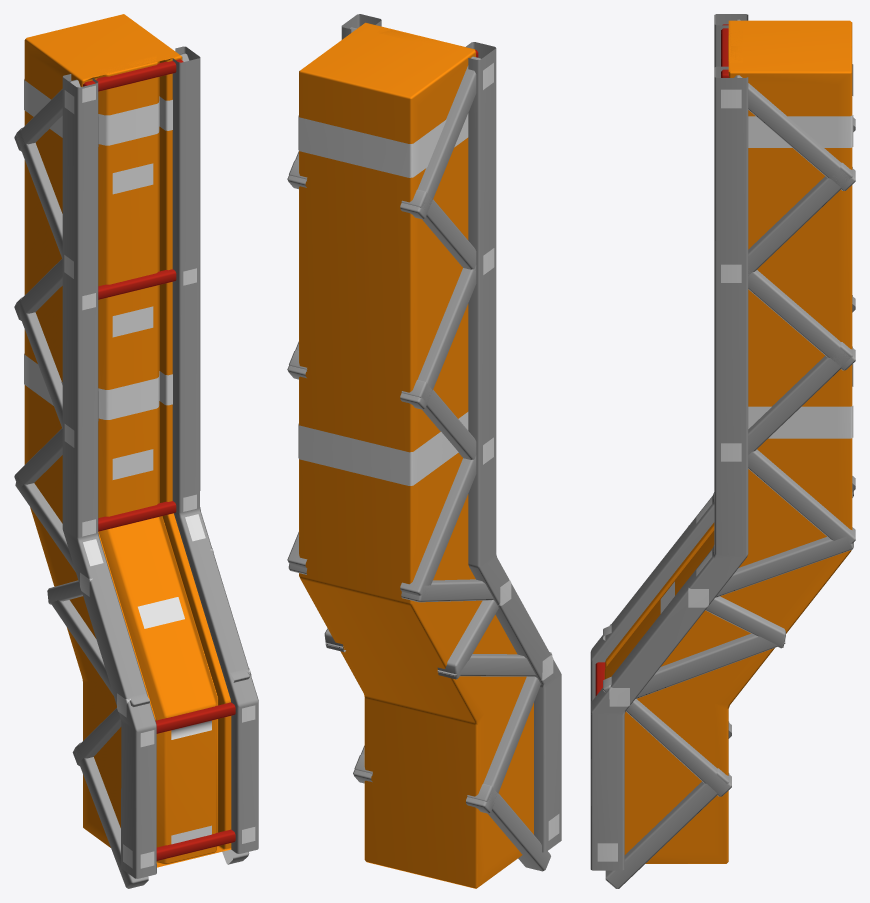
Rendered from PillarSmall.fbx.
The picture shows the model from 3 angles, left to right: view 1: azimuth 30°, elevation 25°; view 2: azimuth 150°, elevation 25°; view 3: azimuth 270°, elevation 25°; orthographic projection. The views are drawn at different scales.
Visible parts, largest first — view 1: Cube.071, Cube.057, StylizedHardSurface_Panels_003.009, StylizedHardSurface_Decals_032.011_projected, StylizedHardSurface_Decals_032.008_projected, StylizedHardSurface_Decals_032.007_projected, StylizedHardSurface_Decals_032.006_projected, StylizedHardSurface_Decals_024.003_projected; view 2: Cube.071, Cube.057, StylizedHardSurface_Panels_003.009; view 3: Cube.071, Cube.057, StylizedHardSurface_Panels_003.009.
Boxes of the visible parts, bbox=[...] form: Cube.071: bbox=[24, 14, 231, 867]; Cube.057: bbox=[14, 46, 258, 888]; StylizedHardSurface_Panels_003.009: bbox=[24, 79, 172, 420]; StylizedHardSurface_Decals_032.011_projected: bbox=[138, 597, 184, 628]; StylizedHardSurface_Decals_032.008_projected: bbox=[112, 306, 153, 337]; StylizedHardSurface_Decals_032.007_projected: bbox=[112, 163, 153, 194]; StylizedHardSurface_Decals_032.006_projected: bbox=[112, 449, 153, 479]; StylizedHardSurface_Decals_024.003_projected: bbox=[83, 514, 205, 566]; Cube.071: bbox=[299, 22, 533, 888]; Cube.057: bbox=[287, 14, 561, 871]; StylizedHardSurface_Panels_003.009: bbox=[298, 113, 468, 485]; Cube.071: bbox=[604, 20, 852, 863]; Cube.057: bbox=[590, 14, 855, 888]; StylizedHardSurface_Panels_003.009: bbox=[748, 64, 853, 438].
Size of the model in its own units: 61.5 by 363 by 107.
